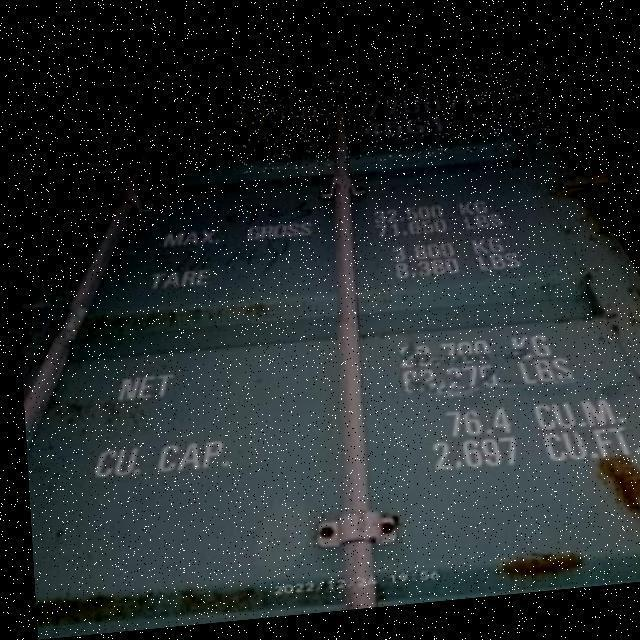container_number_h: (227, 71, 549, 179)
